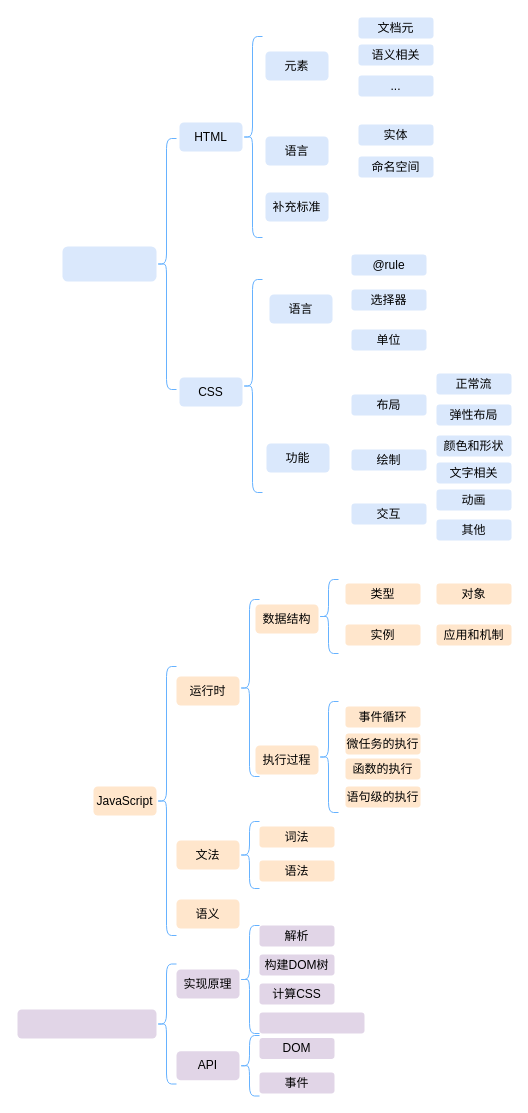
Image size: 528x1113. Some labels were removed from this diagram. Here are the shapes that lost their labels. From the top down, the centre of each, then its label:
[109,263]: HTML和CSS
[86,1023]: 浏览器的实现原理和API
[311,1022]: 渲染、合成和绘制
